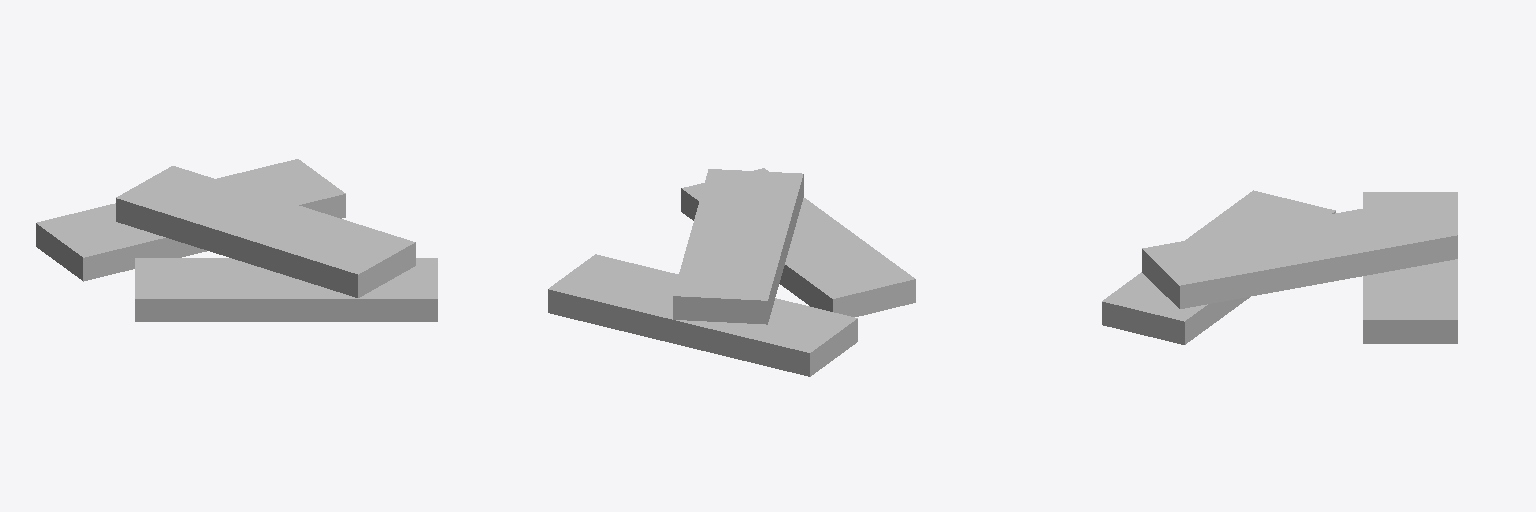
Rendered from debrisWood.obj.
The picture shows the model from 3 angles: view 1: azimuth 30°, elevation 25°; view 2: azimuth 150°, elevation 25°; view 3: azimuth 270°, elevation 25°; orthographic projection.
Visible parts, largest first — view 1: debrisWood; view 2: debrisWood; view 3: debrisWood.
Part boxes in pixels (x1,y1,x2,y2): debrisWood: (36,159,437,321); debrisWood: (548,168,915,376); debrisWood: (1102,190,1457,344).
Bounding box in the file's own units: 4.67 × 0.7872 × 5.36.